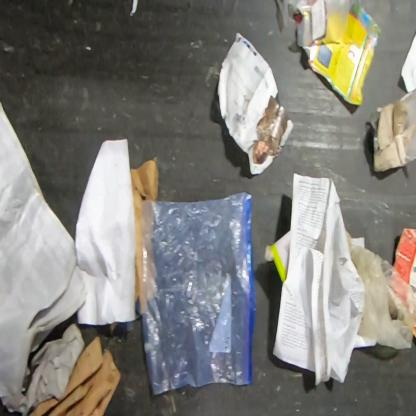cardboard: (292, 0, 382, 108), (28, 335, 123, 415), (130, 158, 160, 320), (368, 87, 415, 174), (392, 227, 415, 312), (413, 311, 415, 340)
soft_plastic: (141, 190, 258, 397), (345, 227, 415, 351), (275, 0, 353, 32)
